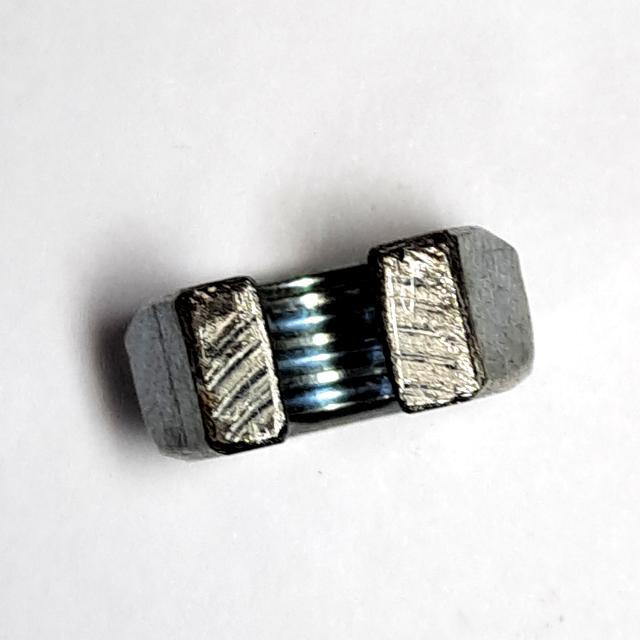Side-Fracture: (111, 203, 549, 474)
